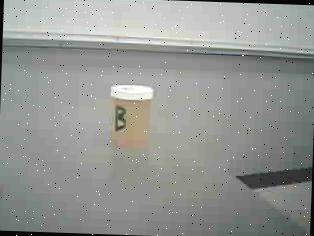Bottle B: (100, 80, 162, 154)
